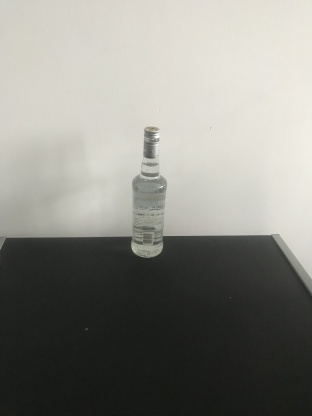nakretka: (142, 124, 160, 159)
